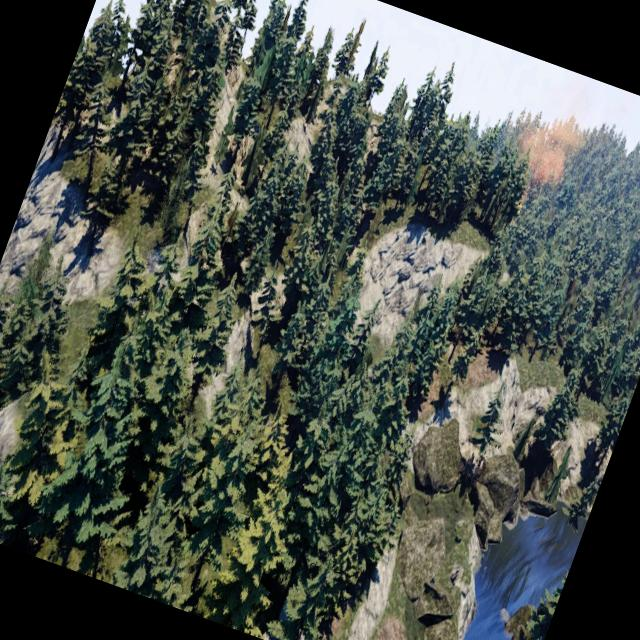smoke: (506, 72, 602, 200)
